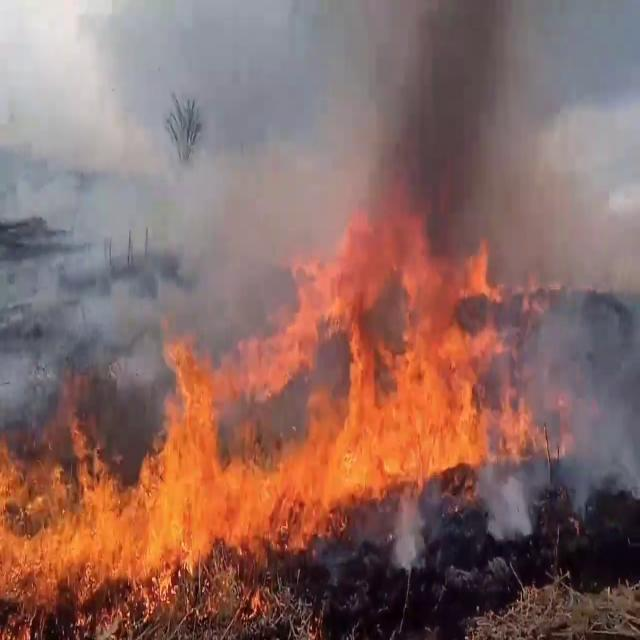Fire: (1, 218, 549, 610)
Smoke: (155, 0, 637, 339), (6, 0, 236, 403), (520, 294, 640, 519)
